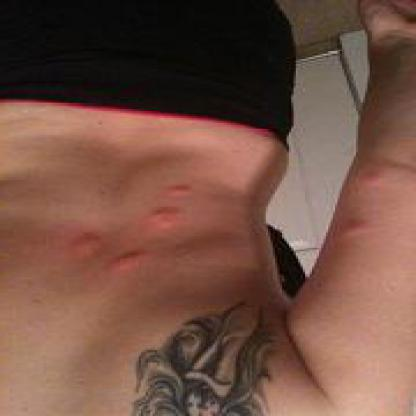Bed Bug: (64, 229, 106, 263), (110, 251, 152, 281), (141, 210, 192, 232), (150, 184, 206, 202), (340, 220, 376, 241), (358, 170, 388, 191)
